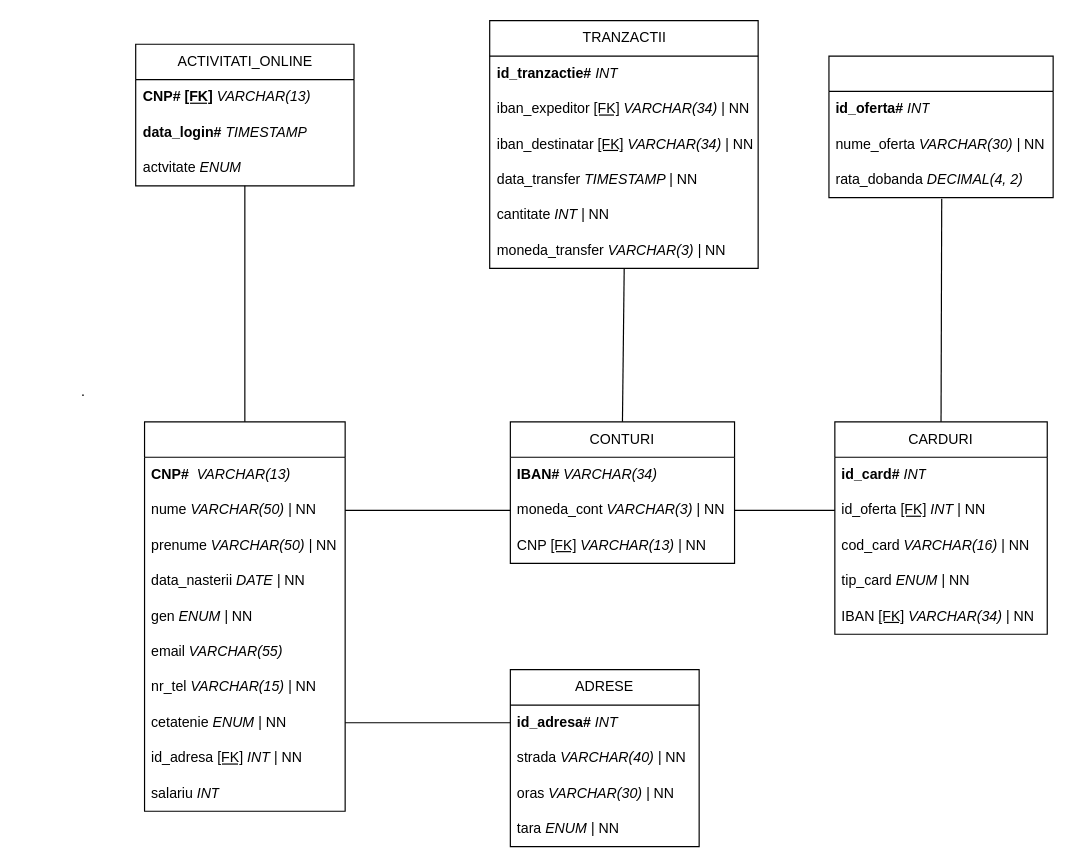
Image size: 1074x867. Some labels were removed from this diagram. Each missing label, with the box of its shape:
CLIENTI: (143, 421, 345, 811)
OFERTE: (828, 55, 1053, 198)
